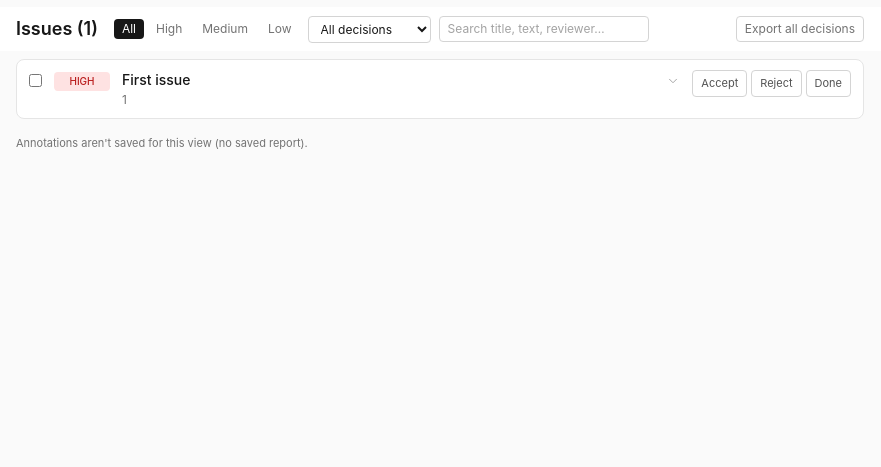
Test: IssuesTable annotation lifecycle › labels each quote with Pipeline's own check
This screenshot has width=881, height=467.
Click the button "First issue 1".
click(156, 80)  # box [122, 70, 680, 108]
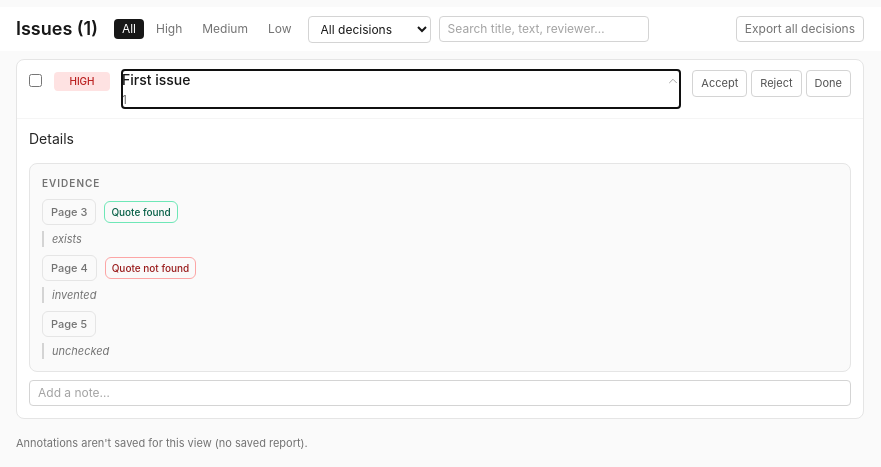
expect the text "Quote not found" is shown: met, box [105, 257, 196, 279]
